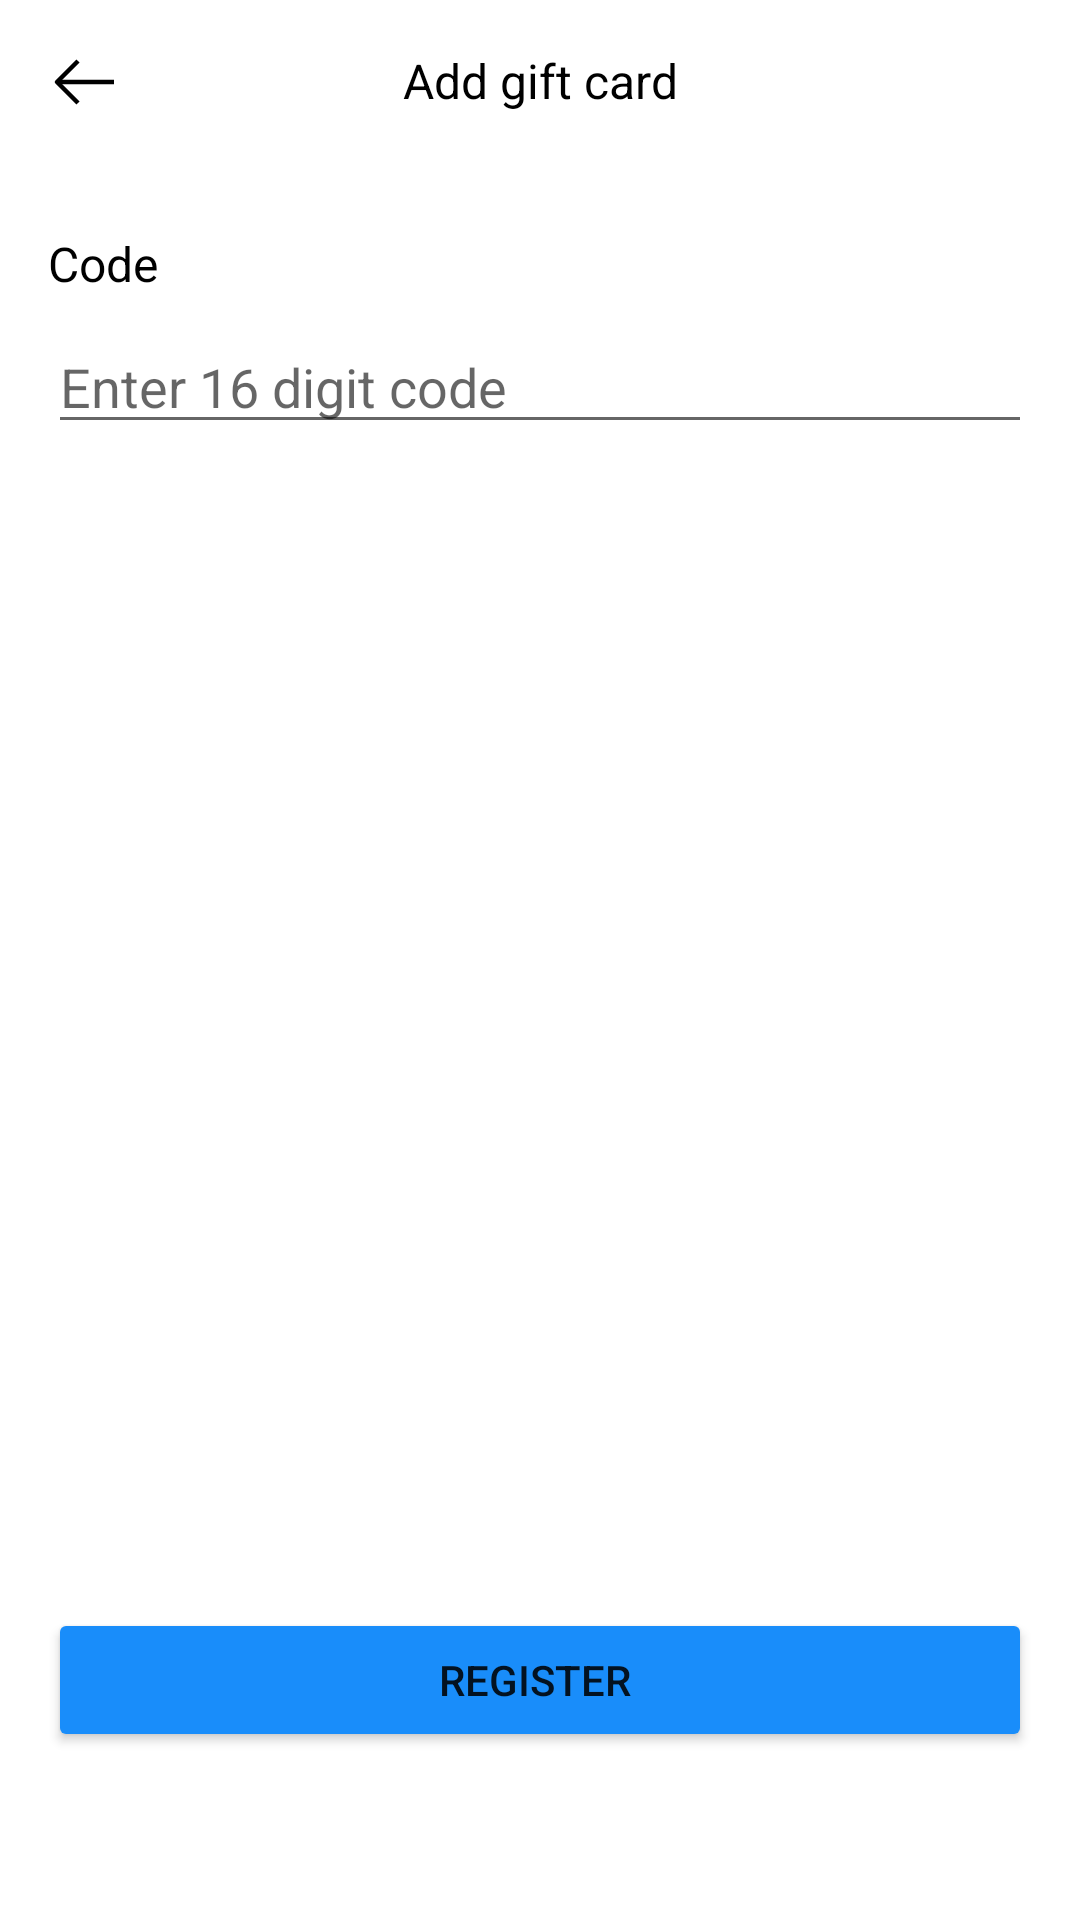

Icons on this 1080x1920 Android screen, each with the point to tap as (x=x, y=y):
back: (x=84, y=82)
